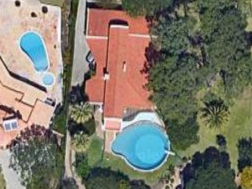pool: (117, 128, 163, 162), (22, 36, 55, 76)
